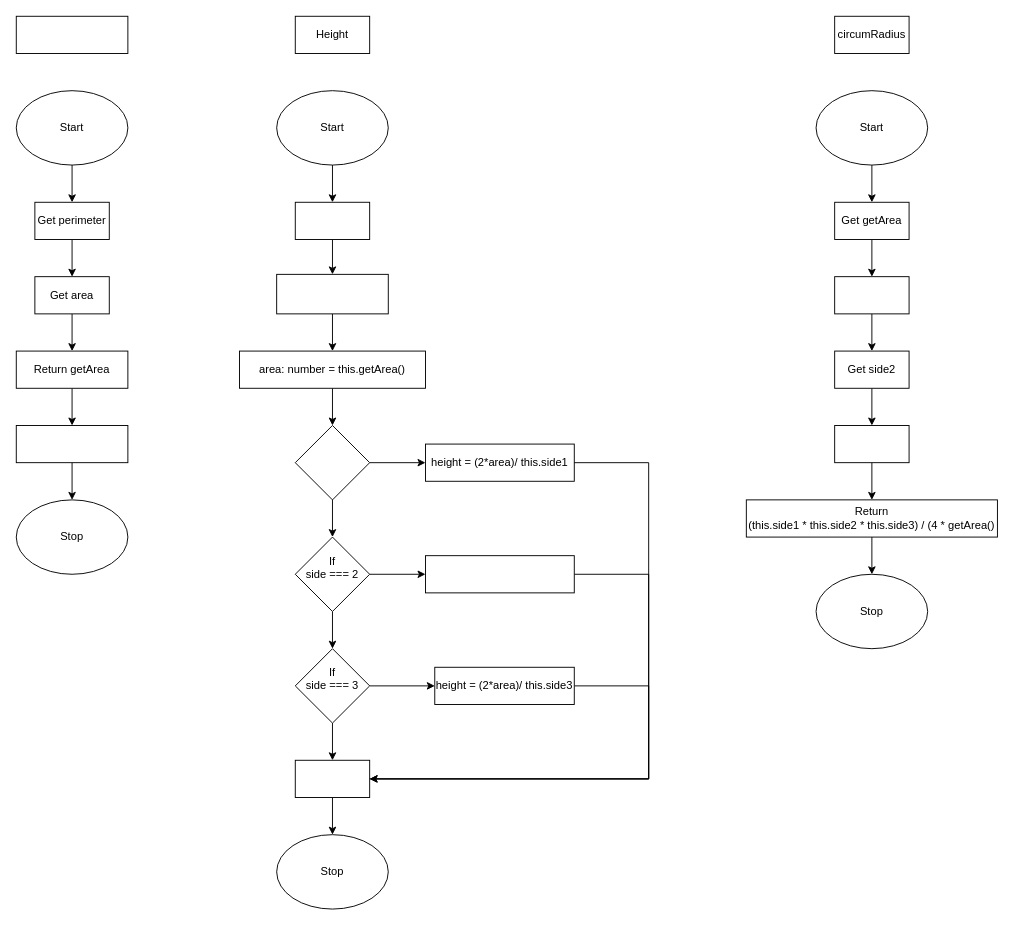
Some shapes in this 1014 by 925 pixel diagram are drawn without their labels. Here are the shapes that lost their labels. From the top down, the centre of each, then its label:
the point at 71,34: innerCircleRadius
the point at 332,220: Get side
the point at 332,293: angle: number
the point at 871,295: Get side1
the point at 71,444: Return getSemiPerimeter
the point at 332,462: If side === 1
the point at 871,444: Get side3
the point at 499,574: height = (2*area)/ this.side2
the point at 332,778: Return height
